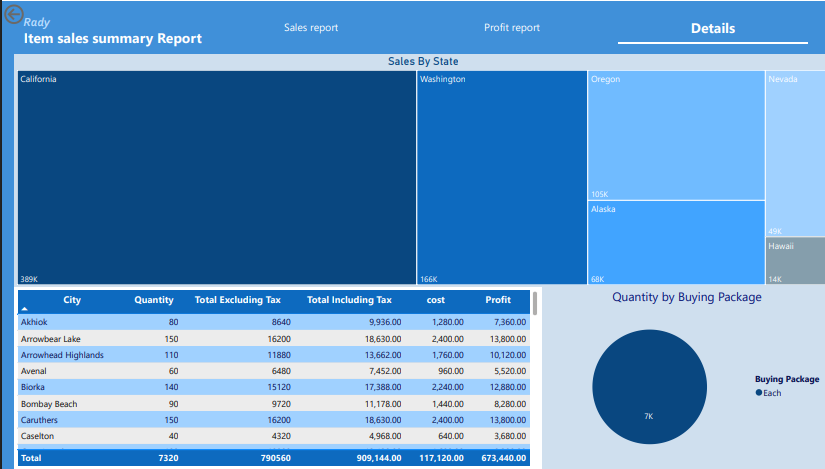

Layout of this report page (visuals, bound fields, positions):
{"tool":"powerbi","page":{"name":"Details","canvas":[1280,720],"ordinal":2},"visuals":[{"type":"shape","box":[0,1.4,1280,80],"z":0},{"type":"shape","box":[0,80,20,640],"z":1000},{"type":"textbox","box":[30,36,336,46],"z":7000},{"type":"actionButton","box":[0,0,100,40],"z":12000},{"type":"pageNavigator","box":[327.6,9.6,919.4,59.2],"z":13000},{"type":"textbox","box":[0,15,110,42.5],"z":14000},{"type":"tableEx","fields":{"Values":["DimCity.City","Sum(FactSale.Quantity)","Sum(FactSale.Total Excluding Tax)","Sum(FactSale.Total Including Tax)","Sum(FactSale.cost)","Sum(FactSale.Profit)"]},"box":[20,440.5,810.9,278.9],"z":14001},{"type":"treemap","title":"Sales By State","fields":{"Group":["DimCity.State Province"],"Values":["Sum(FactSale.Total Excluding Tax)"]},"box":[20,81.5,1260,359],"z":14002},{"type":"pieChart","title":"Quantity by Buying Package","fields":{"Category":["DimStockItem.Buying Package"],"Y":["Sum(FactSale.Quantity)"]},"box":[830.9,440.5,449.1,280],"z":14003}]}

Visuals, with their boxes in screenshot pixels (x1, y1, x2, y2), scaled from the page's 1280x720 canvas onto the 825x469 screenshot:
shape: <bbox>0, 1, 824, 53</bbox>
shape: <bbox>0, 52, 13, 468</bbox>
textbox: <bbox>19, 23, 236, 53</bbox>
actionButton: <bbox>0, 0, 64, 26</bbox>
pageNavigator: <bbox>211, 6, 804, 45</bbox>
textbox: <bbox>0, 10, 71, 37</bbox>
tableEx - DimCity.City x Sum(FactSale.Quantity): <bbox>13, 287, 536, 468</bbox>
"Sales By State" treemap: <bbox>13, 53, 824, 287</bbox>
"Quantity by Buying Package" pieChart: <bbox>536, 287, 824, 468</bbox>
